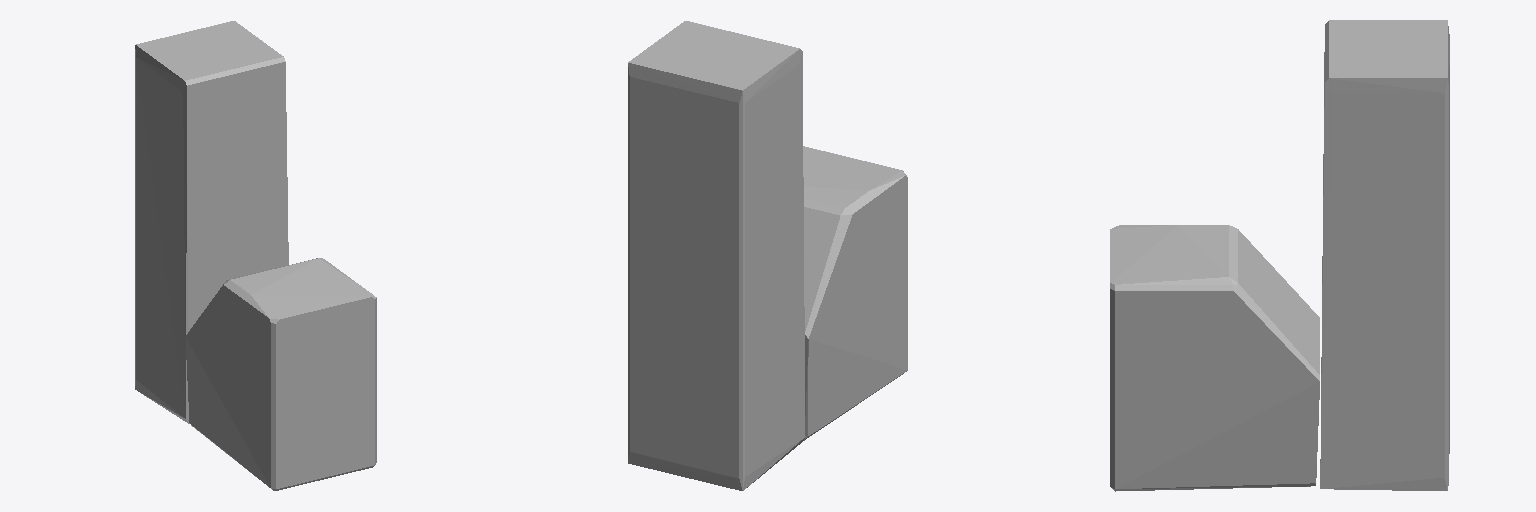
URDF robot description (root):
<robot name="root">
  <link name="link_J_Block_convex_piece_0">
    <inertial>
      <origin xyz="0 0 0" rpy="0 0 0"/>
      <mass value="1.34E-01"/>
      <inertia ixx="2.86E-04" ixy="-2.74E-07" ixz="7.16E-08" iyy="2.32E-04" iyz="-4.15E-05" izz="8.92E-05"/>
    </inertial>
    <visual>
      <origin xyz="0 0 0" rpy="0 0 0"/>
      <geometry>
        <mesh filename="J_Block_convex_piece_0.obj" scale="1.0000E+00 1.0000E+00 1.0000E+00"/>
      </geometry>
      <material name="">
        <color rgba="7.50E-01 7.50E-01 7.50E-01 1"/>
      </material>
    </visual>
    <collision>
      <origin xyz="0 0 0" rpy="0 0 0"/>
      <geometry>
        <mesh filename="J_Block_convex_piece_0.obj" scale="1.0000E+00 1.0000E+00 1.0000E+00"/>
      </geometry>
    </collision>
  </link>
  <link name="link_J_Block_convex_piece_1">
    <inertial>
      <origin xyz="0 0 0" rpy="0 0 0"/>
      <mass value="1.04E-01"/>
      <inertia ixx="1.96E-04" ixy="5.85E-08" ixz="8.52E-08" iyy="8.60E-05" iyz="-5.55E-05" izz="1.40E-04"/>
    </inertial>
    <visual>
      <origin xyz="0 0 0" rpy="0 0 0"/>
      <geometry>
        <mesh filename="J_Block_convex_piece_1.obj" scale="1.0000E+00 1.0000E+00 1.0000E+00"/>
      </geometry>
      <material name="">
        <color rgba="7.50E-01 7.50E-01 7.50E-01 1"/>
      </material>
    </visual>
    <collision>
      <origin xyz="0 0 0" rpy="0 0 0"/>
      <geometry>
        <mesh filename="J_Block_convex_piece_1.obj" scale="1.0000E+00 1.0000E+00 1.0000E+00"/>
      </geometry>
    </collision>
  </link>
  <joint name="link_J_Block_convex_piece_1_joint" type="fixed">
    <origin xyz="0 0 0" rpy="0 0 0"/>
    <parent link="link_J_Block_convex_piece_0"/>
    <child link="link_J_Block_convex_piece_1"/>
  </joint>
</robot>

--- What the picture shows (computed from the rendered views, not written in the file) ---
The picture shows the robot from 3 angles, left to right: view 1: azimuth 30°, elevation 25°; view 2: azimuth 150°, elevation 25°; view 3: azimuth 270°, elevation 25°; orthographic projection.
Model root with 2 links and 1 joints (1 fixed), rooted at link_J_Block_convex_piece_0, posed every joint at zero.
Links seen in each view (by area): view 1: link_J_Block_convex_piece_0, link_J_Block_convex_piece_1; view 2: link_J_Block_convex_piece_0, link_J_Block_convex_piece_1; view 3: link_J_Block_convex_piece_0, link_J_Block_convex_piece_1.
Boxes of the visible links, x1=… form: link_J_Block_convex_piece_0: x1=135, y1=21, x2=288, y2=423; link_J_Block_convex_piece_1: x1=185, y1=258, x2=376, y2=490; link_J_Block_convex_piece_0: x1=628, y1=21, x2=805, y2=490; link_J_Block_convex_piece_1: x1=803, y1=146, x2=907, y2=440; link_J_Block_convex_piece_0: x1=1320, y1=20, x2=1449, y2=490; link_J_Block_convex_piece_1: x1=1110, y1=225, x2=1319, y2=491.
Bounding box of the posed robot: 0.0416 × 0.0967 × 0.13 m (x, y, z).
2 mesh visuals loaded from 2 distinct referenced files (2 OBJ).
